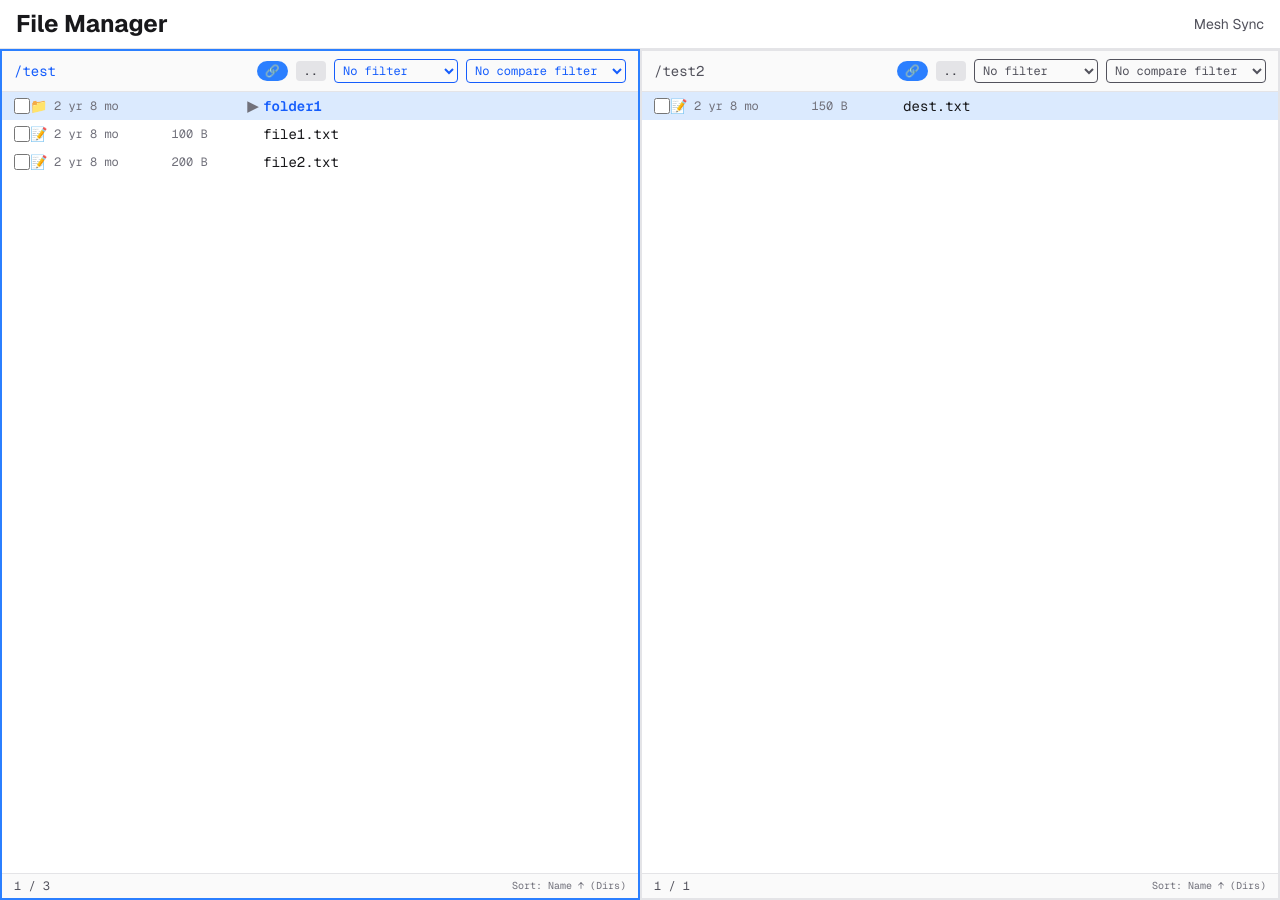
WorkspaceView Bulk Operations [REQ-BULK_FILE_OPS] › should cancel delete operation when user clicks Cancel [REQ-BULK_FILE_OPS]
The image size is (1280, 900).
// Mark a file
Press m
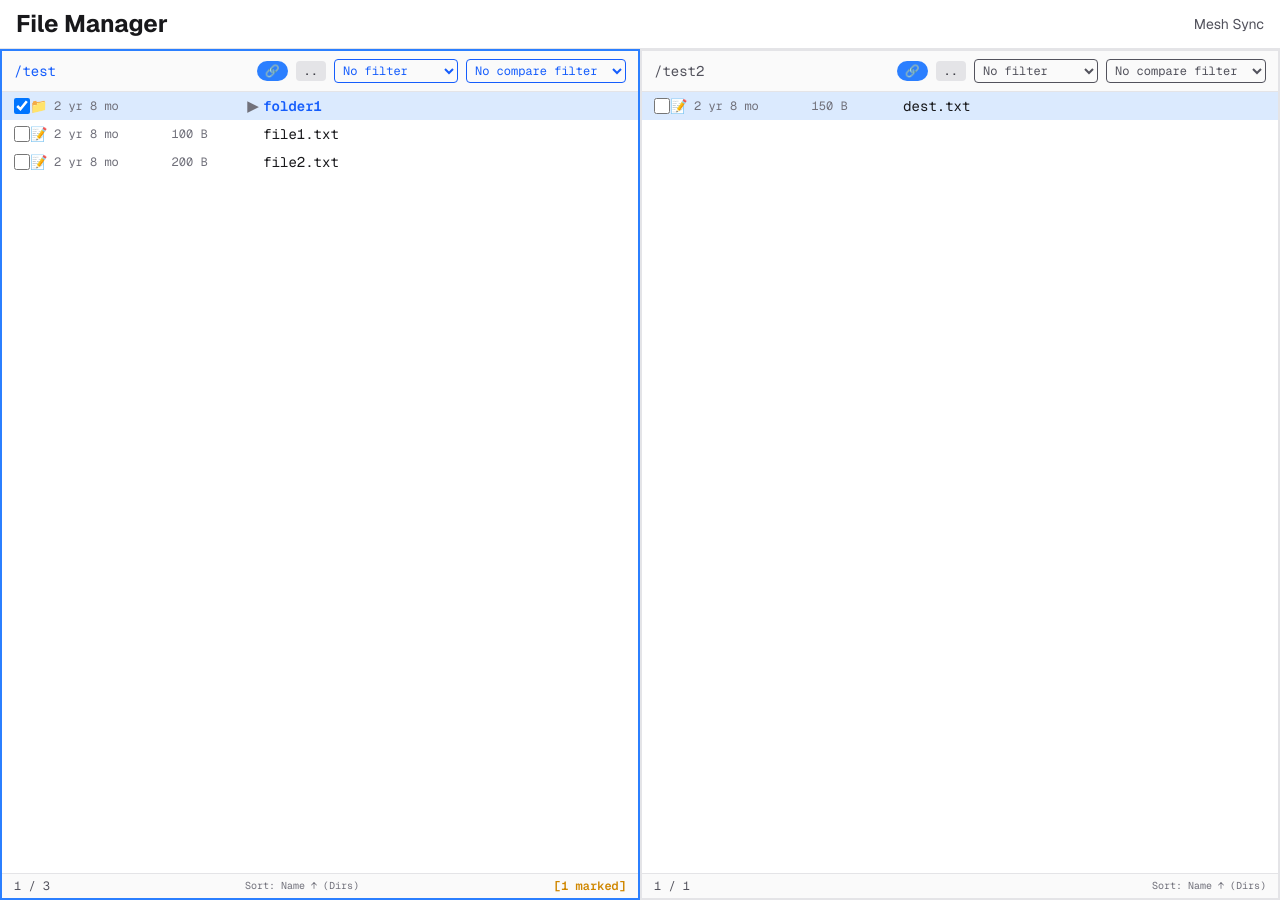
Check: the text "[1 marked]" is shown, box [554,878,626,894]
// Press D for delete
Press d
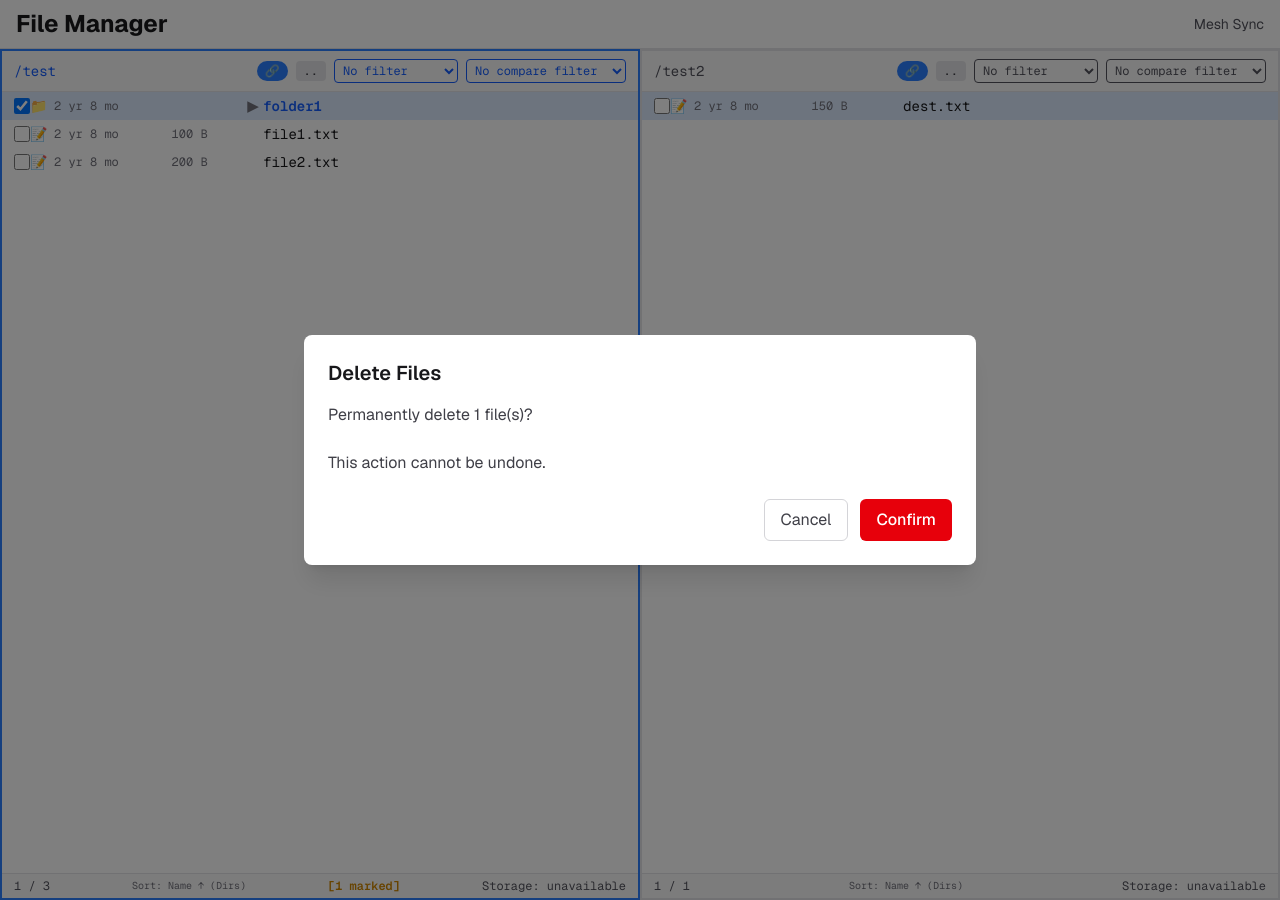
Check: the heading "Delete Files" is shown, box [328,360,441,386]
// Click Cancel
Click the button "Cancel".
click(806, 520)  # box [764,499,848,541]
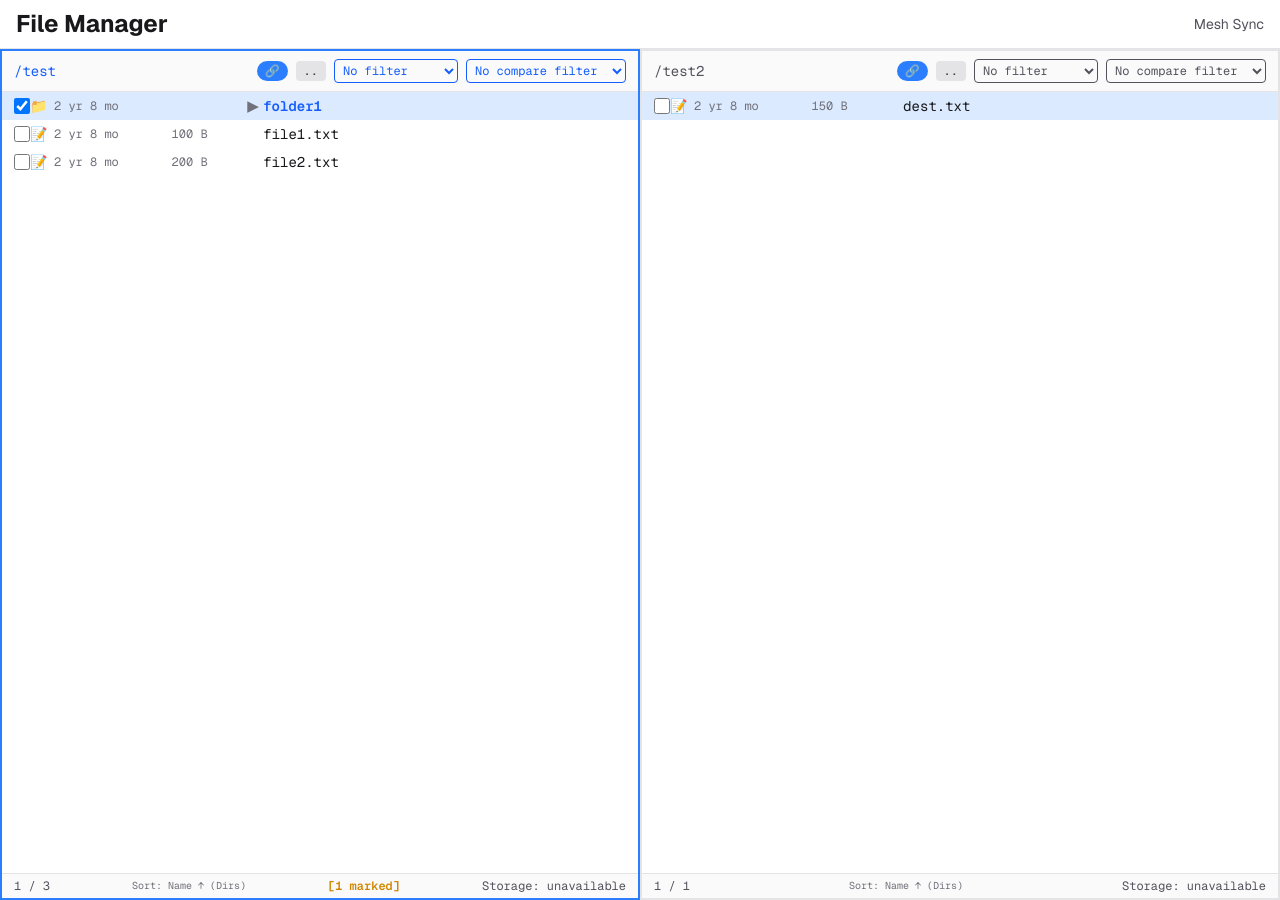
Check: the heading "Delete Files" is gone
